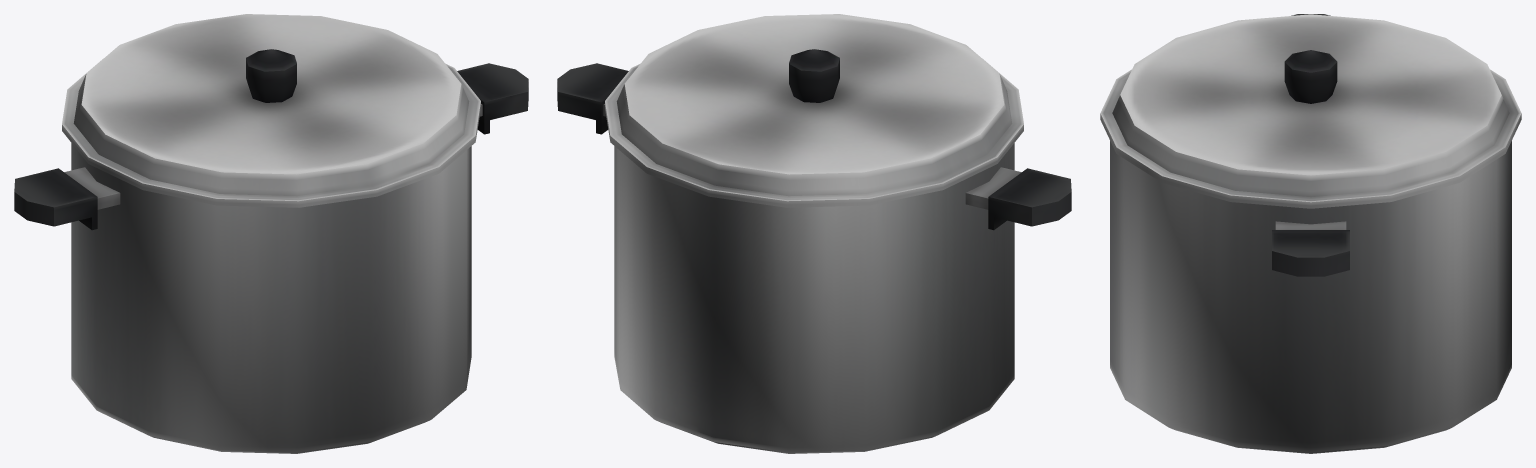
File: KR_Pot_01_03.fbx
3 views of the same model, side by side, from view 1: azimuth 30°, elevation 25°; view 2: azimuth 150°, elevation 25°; view 3: azimuth 270°, elevation 25° (orthographic).
Parts seen in each view (by area): view 1: pot01, lid01; view 2: pot01, lid01; view 3: pot01, lid01.
Boxes of the visible parts, x1,y1,x2,y2 form: pot01: (14, 63, 528, 453); lid01: (62, 14, 480, 207); pot01: (557, 63, 1071, 453); lid01: (605, 14, 1023, 207); pot01: (1110, 14, 1511, 453); lid01: (1100, 14, 1521, 208).
Size of the model in its own units: 32.4 by 20 by 23.66.
